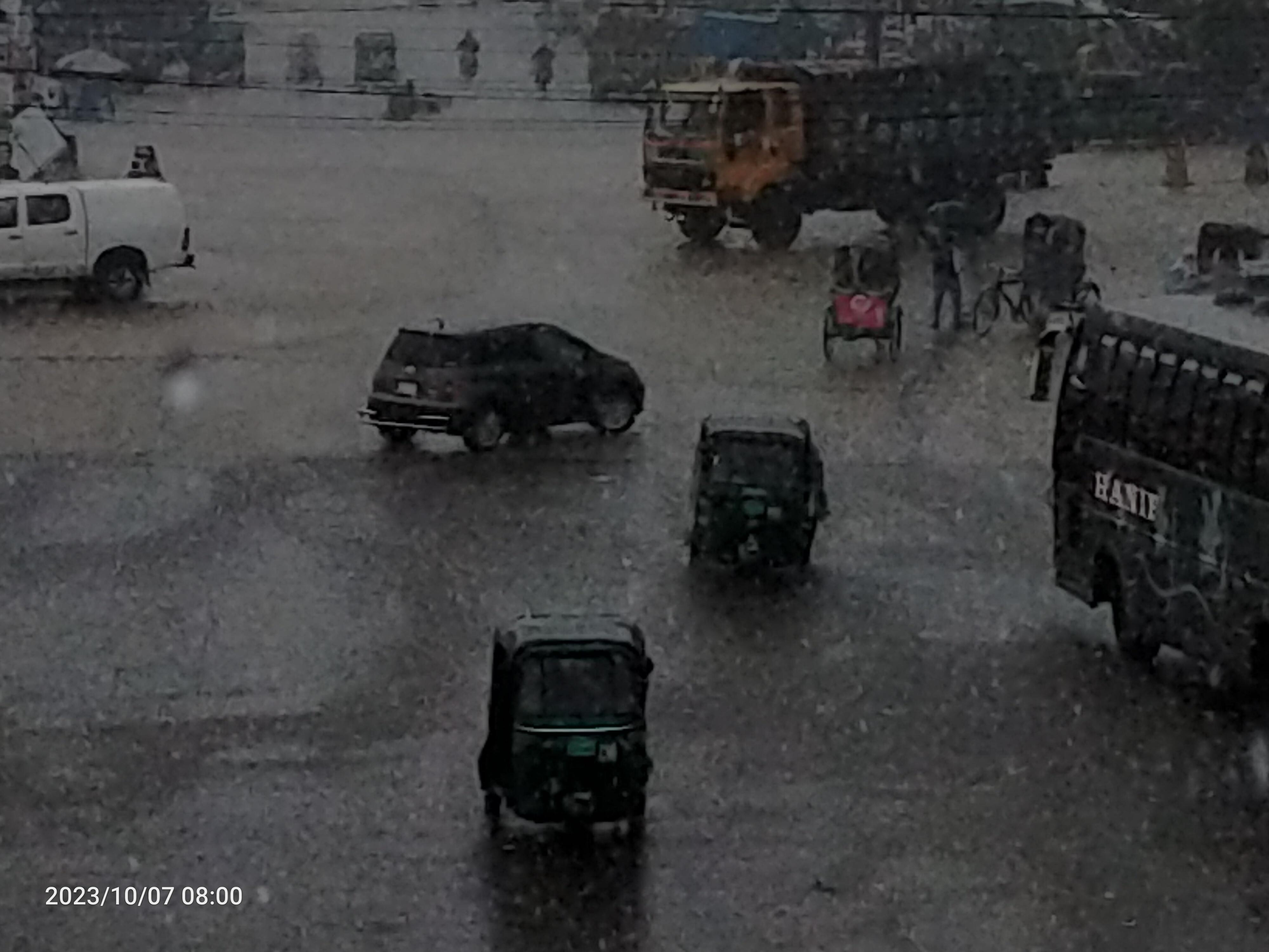Bike: (446, 21, 496, 95), (527, 33, 569, 105)
Bus: (1039, 282, 1269, 690)
Car: (351, 296, 671, 470), (0, 142, 216, 321), (964, 202, 1115, 355), (811, 222, 929, 379)
Truck: (628, 43, 1068, 255)
